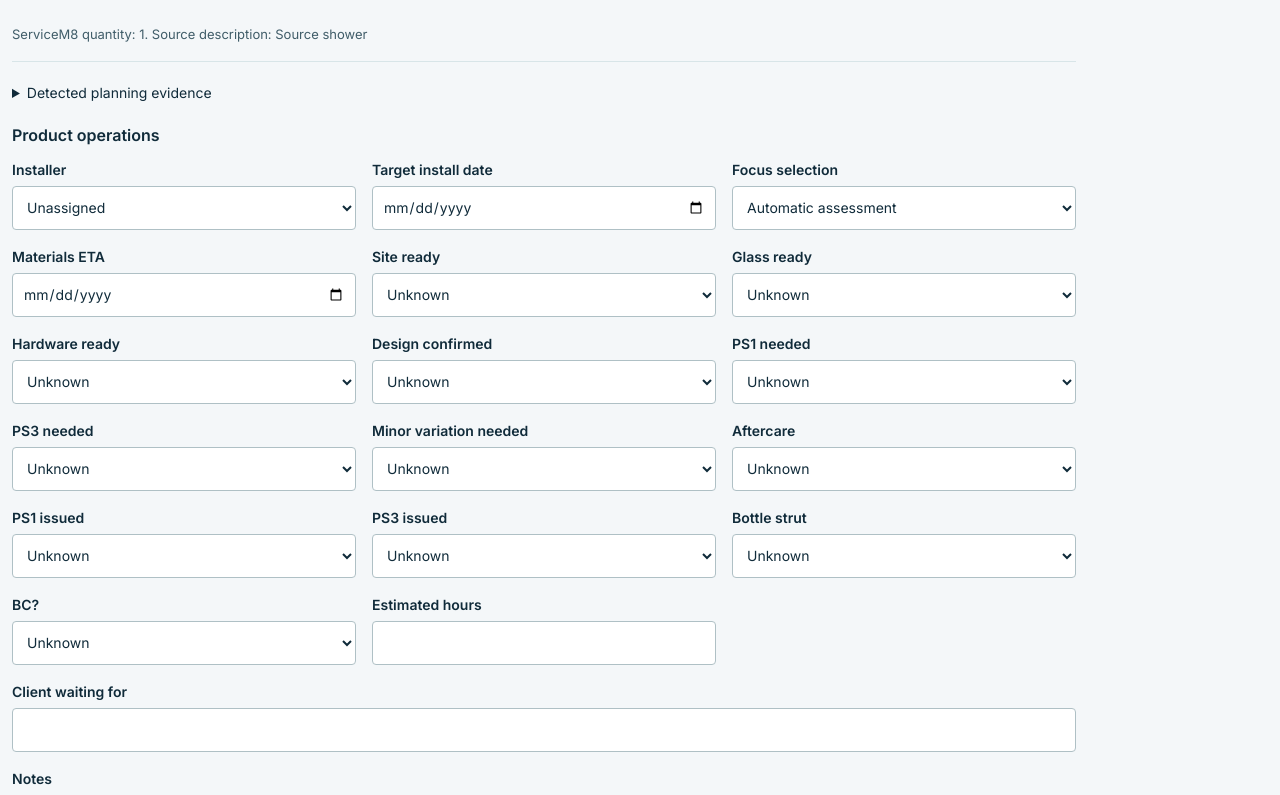
staff product editor › shows old-rule evidence as stale and keeps the staff date input empty
What coordinates should you click on to do the following:
click the heading "Detected planning evidence"
I would click on:
 (119, 92)
Its box is [27,84,212,101].
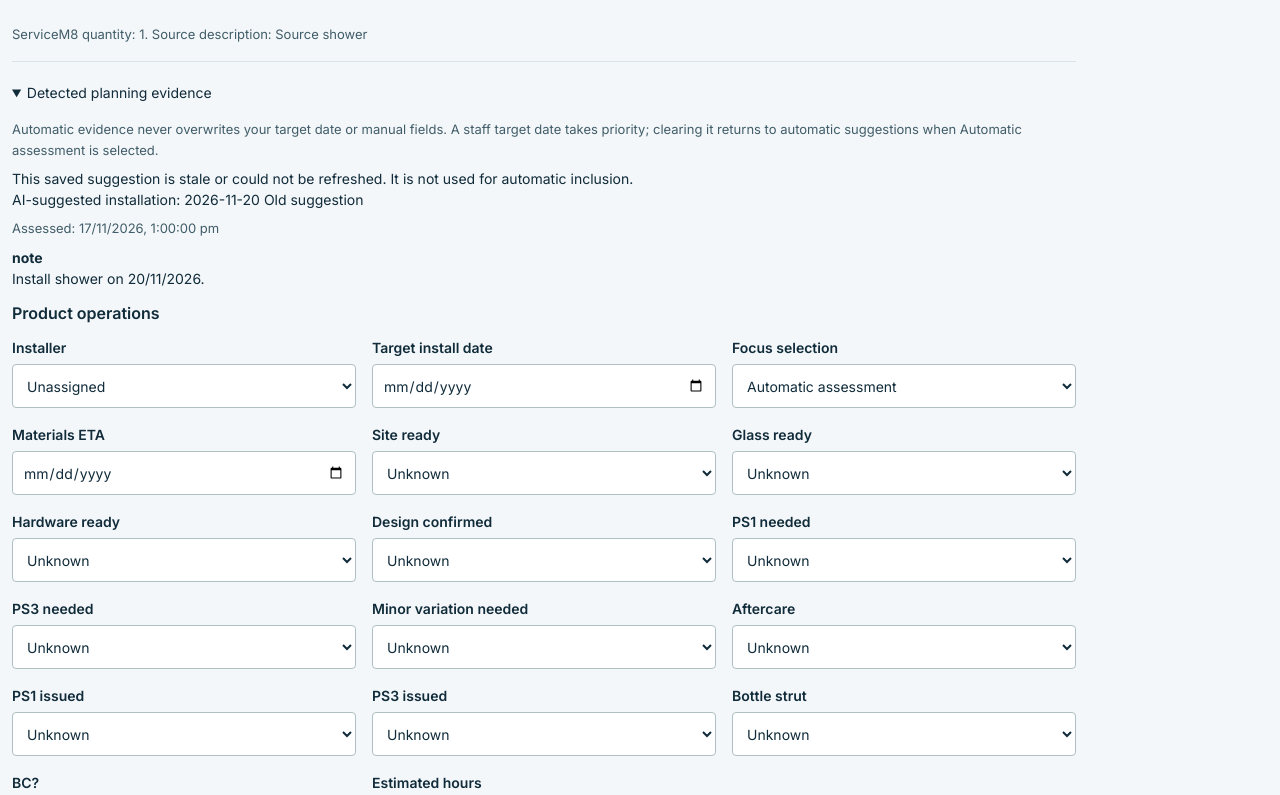
Expected: the date field labelled "Target install date" is empty, [372,364,716,408]
Expected: the message shows "saved suggestion is stale", [12,170,633,187]
